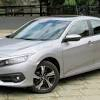Honda: (1, 17, 100, 92)
